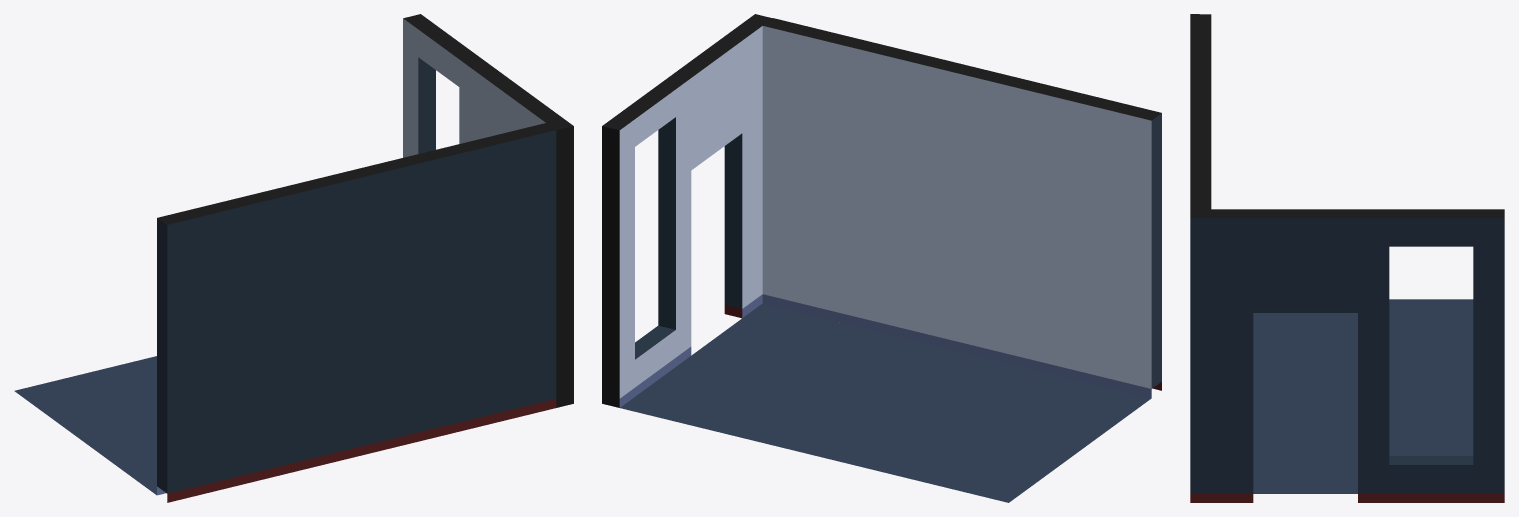
Rendered from __last_office_next_to_bathroom.fbx.
3 views of the same model, side by side, from view 1: azimuth 30°, elevation 25°; view 2: azimuth 150°, elevation 25°; view 3: azimuth 270°, elevation 25° (orthographic). The views are drawn at different scales.
Parts seen in each view (by area): view 1: stairs_wall.004, office_front_door.001, office_floor.001; view 2: stairs_wall.004, office_floor.001, office_front_door.001; view 3: office_front_door.001, office_floor.001, stairs_wall.004.
Part boxes in pixels (left/top/right/bottom): stairs_wall.004: left=157, top=123, right=556, bottom=502; office_front_door.001: left=403, top=14, right=573, bottom=407; office_floor.001: left=14, top=356, right=156, bottom=495; stairs_wall.004: left=762, top=18, right=1161, bottom=398; office_floor.001: left=620, top=303, right=1151, bottom=502; office_front_door.001: left=602, top=14, right=772, bottom=407; office_front_door.001: left=1190, top=209, right=1504, bottom=502; office_floor.001: left=1253, top=299, right=1473, bottom=493; stairs_wall.004: left=1190, top=14, right=1211, bottom=209.
Size of the model in its own units: 4.6 by 3 by 3.
